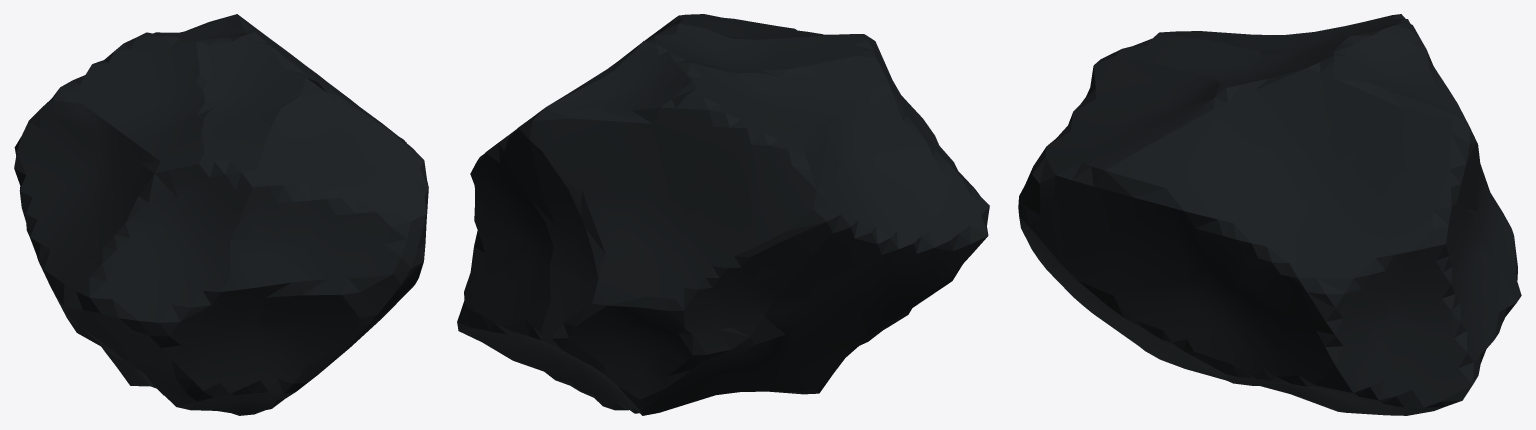
File: Asteroid_h_02.FBX
3 views of the same model, side by side, from view 1: azimuth 30°, elevation 25°; view 2: azimuth 150°, elevation 25°; view 3: azimuth 270°, elevation 25° (orthographic). The views are drawn at different scales.
Visible parts, largest first — view 1: Asteroid_h_02; view 2: Asteroid_h_02; view 3: Asteroid_h_02.
Boxes of the visible parts, x1,y1,x2,y2 form: Asteroid_h_02: [14, 14, 428, 415]; Asteroid_h_02: [457, 14, 989, 415]; Asteroid_h_02: [1018, 14, 1521, 415].
Bounding box in the file's own units: 4353 × 3354 × 4261.
